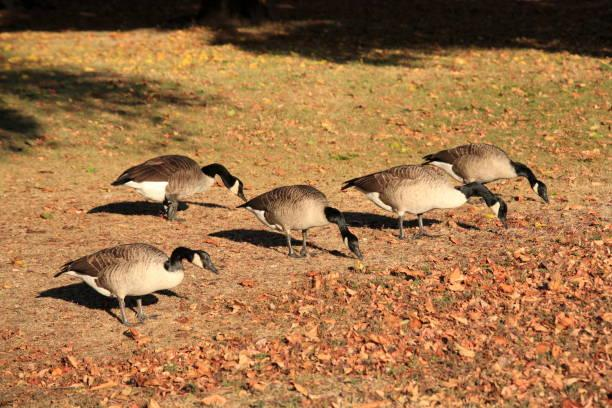Canadian-Goose: (67, 237, 216, 321), (343, 164, 515, 221), (242, 185, 368, 260), (115, 150, 241, 216), (437, 138, 554, 204)
